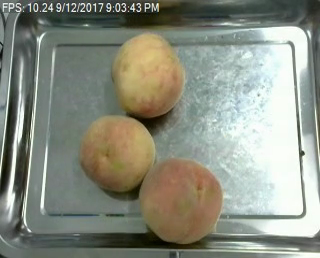Peach: (139, 156, 224, 244), (110, 31, 185, 115), (79, 116, 156, 193)
